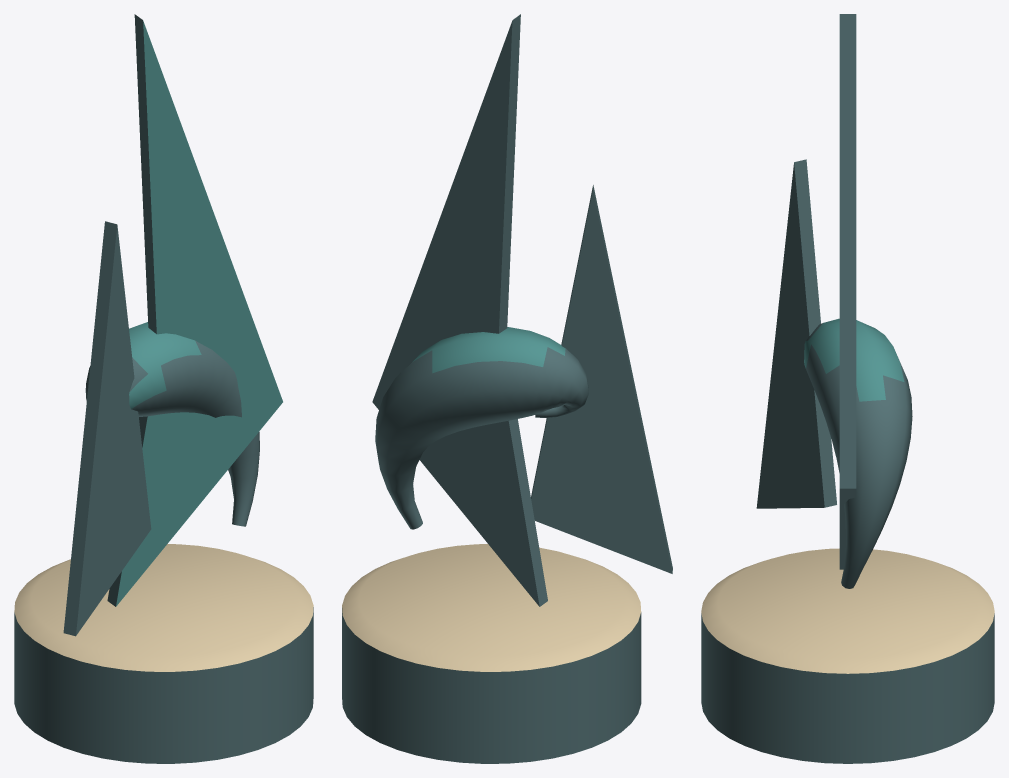
The model's file is KC32__AD_Int_Sculpture_Deco.glb.
3 renders of one model, left to right at view 1: azimuth 30°, elevation 25°; view 2: azimuth 150°, elevation 25°; view 3: azimuth 270°, elevation 25°, orthographic. The views are drawn at different scales.
Parts seen in each view (by area): view 1: KC32_CORPS__AD_Int_Sculpture_Deco, KC32_BRONZE__AD_Int_Sculpture_Deco; view 2: KC32_CORPS__AD_Int_Sculpture_Deco, KC32_BRONZE__AD_Int_Sculpture_Deco; view 3: KC32_CORPS__AD_Int_Sculpture_Deco, KC32_BRONZE__AD_Int_Sculpture_Deco.
Boxes of the visible parts, box(x1,y1,x2,y2) form: KC32_CORPS__AD_Int_Sculpture_Deco: box(14, 14, 313, 763); KC32_BRONZE__AD_Int_Sculpture_Deco: box(14, 544, 313, 671); KC32_CORPS__AD_Int_Sculpture_Deco: box(342, 14, 672, 763); KC32_BRONZE__AD_Int_Sculpture_Deco: box(342, 544, 641, 671); KC32_CORPS__AD_Int_Sculpture_Deco: box(701, 14, 994, 763); KC32_BRONZE__AD_Int_Sculpture_Deco: box(701, 548, 994, 673).
Bounding box in the file's own units: 1.29 × 3.15 × 1.24.
